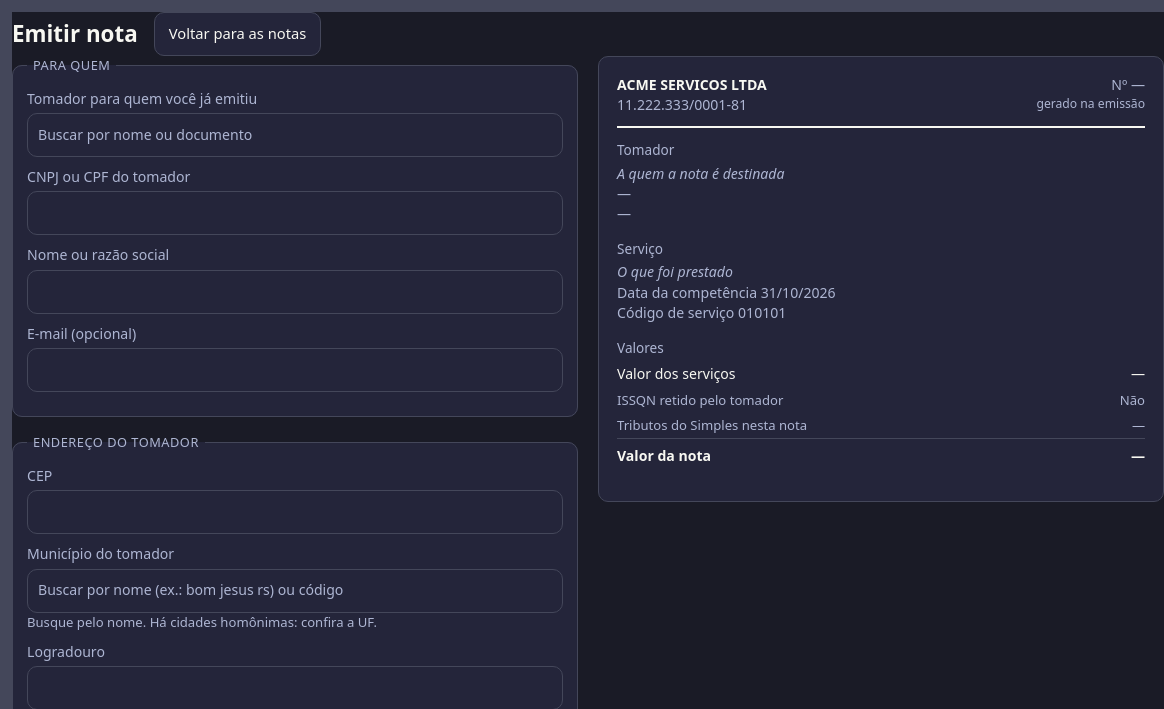
Test case: ⚠ ESCOLHER PREENCHE O TOMADOR INTEIRO — com a origem à vista › ⚠ o registro INCOMPLETO preenche o que tem, e não inventa o resto
Step 1. Type "yago" into the dropdown with id "emitir-tomador-memoria" → (295, 135), box [27,113,563,157]
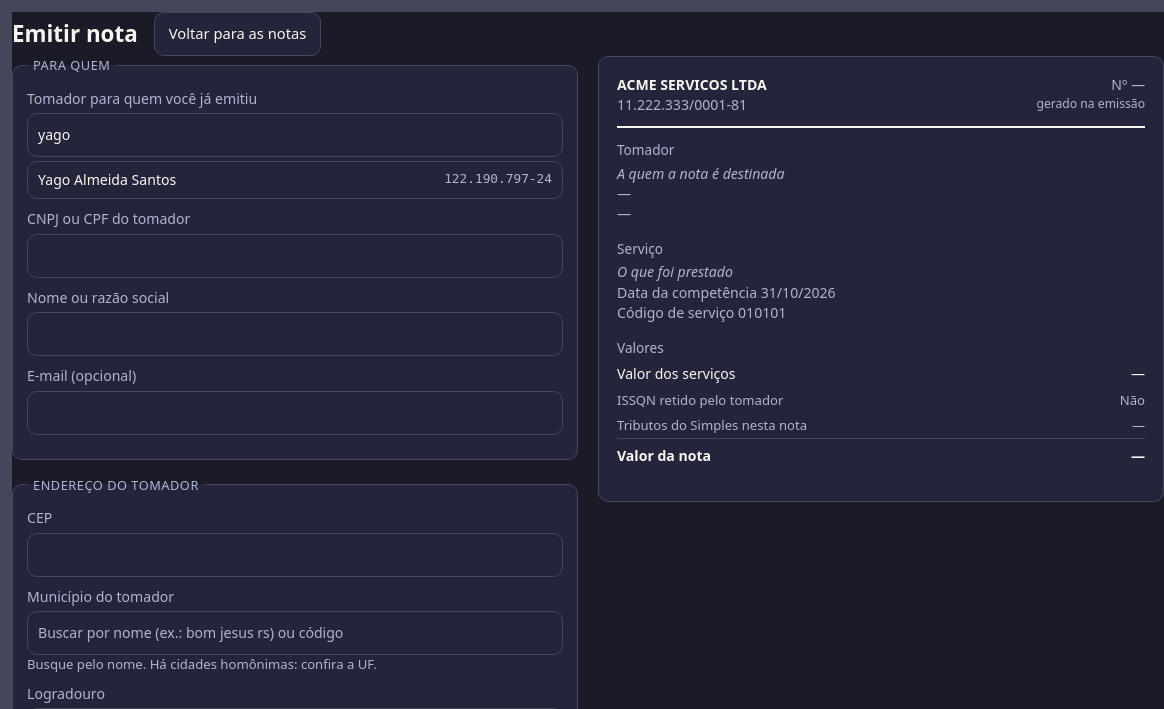
Step 2. Click the option "Yago Almeida Santos 122.190.797-24" → (107, 179), box [28,162,562,198]
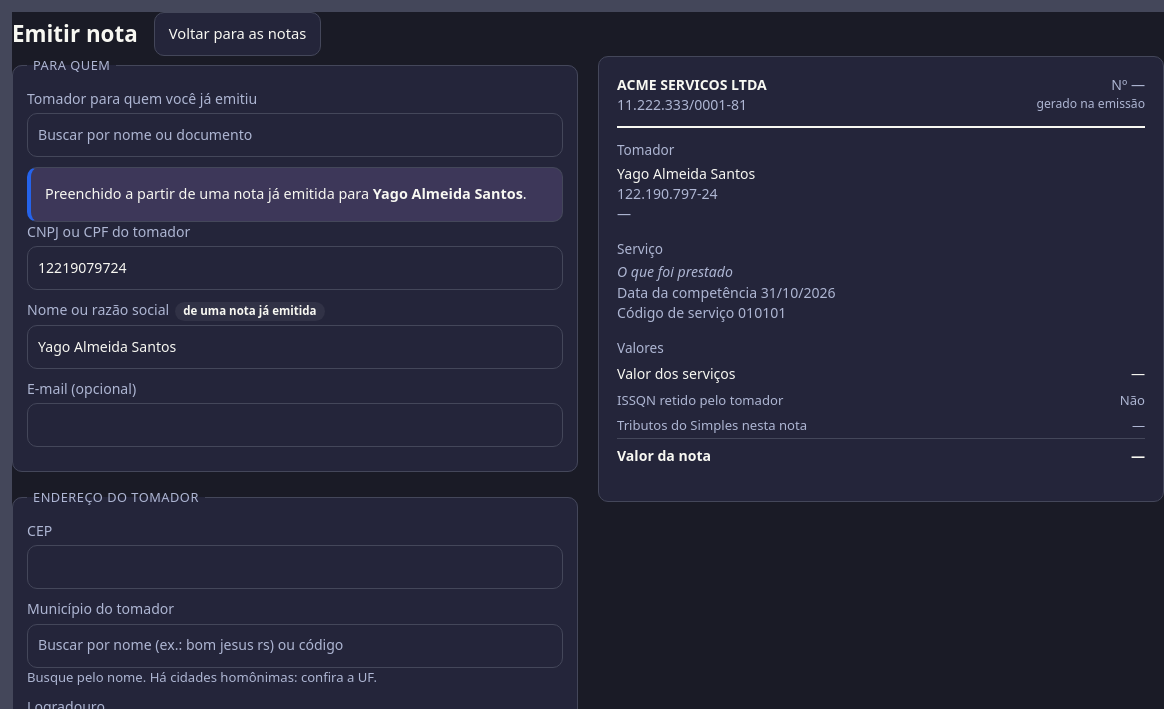
Expected: the text "Yago Almeida Santos" below "Tomador para quem você já emitiu" is shown, [373,184,523,203]
